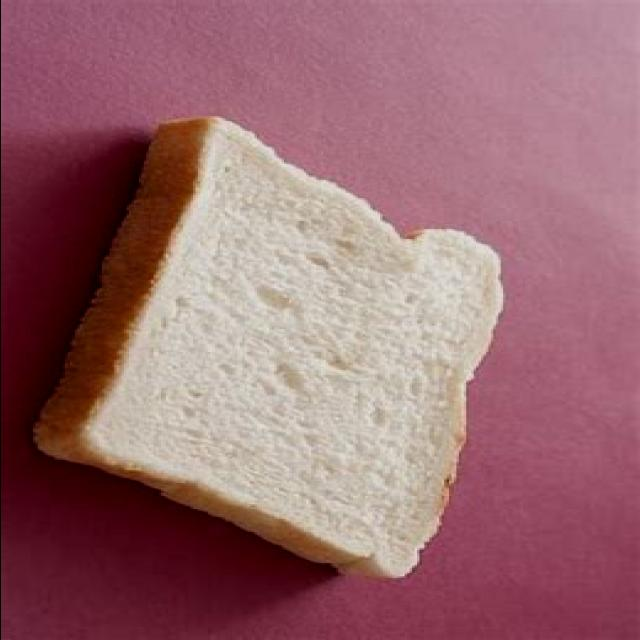roti tawar: (30, 115, 502, 579)
